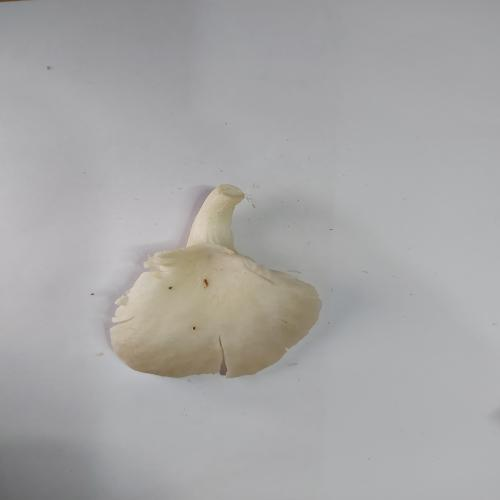Oyster Mushroom: (108, 183, 323, 379)
